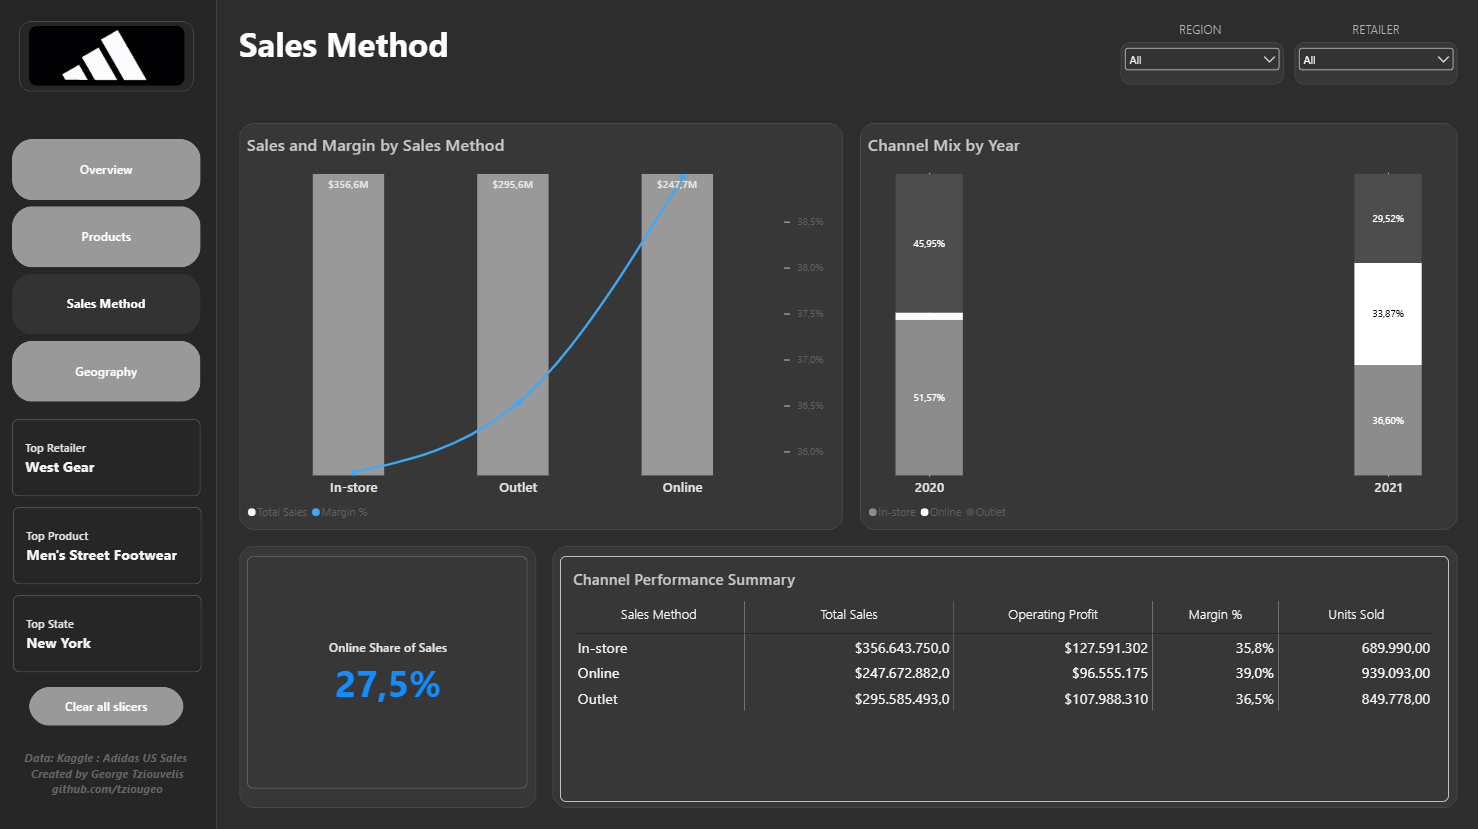

The dashboard page shown, as its layout file describes it:
{"tool":"powerbi","page":{"name":"Sales Method","canvas":[1920,1080],"ordinal":2},"visuals":[{"type":"image","box":[42.3,36.5,201.3,77.3],"z":0},{"type":"lineClusteredColumnComboChart","title":"Sales and Margin by Sales Method","fields":{"Category":["Data Sales Adidas.Sales Method"],"Y":["Measuress.Total Sales"],"Y2":["Measuress.Margin %"]},"box":[325,175,760,505],"z":1000},{"type":"hundredPercentStackedColumnChart","title":"Channel Mix by Year","fields":{"Category":["Date.Year"],"Series":["Data Sales Adidas.Sales Method"],"Y":["Measuress.Total Sales"]},"box":[1128,175.1,752,505],"z":2000},{"type":"cardVisual","fields":{"Data":["Measuress.Online Share %"]},"box":[325,722,363,301],"z":3000},{"type":"tableEx","title":"Channel Performance Summary","fields":{"Values":["Data Sales Adidas.Sales Method","Measuress.Total Sales","Measuress.Operating Profit","Measuress.Margin %","Measuress.Units Sold"]},"box":[730,722,1150,318],"z":4000},{"type":"slicer","title":"YEAR","fields":{"Values":["Data Sales Adidas.Region"]},"box":[1455,60,210,54],"z":5000},{"type":"slicer","title":"YEAR","fields":{"Values":["Data Sales Adidas.Retailer"]},"box":[1680,60,210,54],"z":6000},{"type":"textbox","box":[1455,30,210,28],"z":7000},{"type":"textbox","box":[1680,30,210,28],"z":8000},{"type":"textbox","box":[315,30.2,840.7,73.3],"z":9000},{"type":"pageNavigator","box":[21,183,244.3,343.2],"z":10000},{"type":"textbox","box":[21.6,972.9,244.3,80.5],"z":11000},{"type":"actionButton","box":[43.1,891,200,50],"z":12000},{"type":"cardVisual","fields":{"Data":["Measuress.Top Retailer"]},"box":[21,545,244,100],"z":12001},{"type":"cardVisual","fields":{"Data":["Measuress.Top Product"]},"box":[22,659,244,100],"z":12002},{"type":"cardVisual","fields":{"Data":["Measuress.Top State"]},"box":[22,773,244.5,100],"z":12003}]}

Visuals, with their boxes in screenshot pixels (x1, y1, x2, y2), scaled from the page's 1920x1080 canvas onto the 1478x829 screenshot:
image: box=[33, 28, 188, 87]
"Sales and Margin by Sales Method" lineClusteredColumnComboChart: box=[250, 134, 835, 522]
"Channel Mix by Year" hundredPercentStackedColumnChart: box=[868, 134, 1447, 522]
cardVisual - Measuress.Online Share %: box=[250, 554, 530, 785]
"Channel Performance Summary" tableEx: box=[562, 554, 1447, 798]
"YEAR" slicer: box=[1120, 46, 1282, 88]
"YEAR" slicer: box=[1293, 46, 1455, 88]
textbox: box=[1120, 23, 1282, 45]
textbox: box=[1293, 23, 1455, 45]
textbox: box=[242, 23, 890, 79]
pageNavigator: box=[16, 140, 204, 404]
textbox: box=[17, 747, 205, 809]
actionButton: box=[33, 684, 187, 722]
cardVisual - Measuress.Top Retailer: box=[16, 418, 204, 495]
cardVisual - Measuress.Top Product: box=[17, 506, 205, 583]
cardVisual - Measuress.Top State: box=[17, 593, 205, 670]
